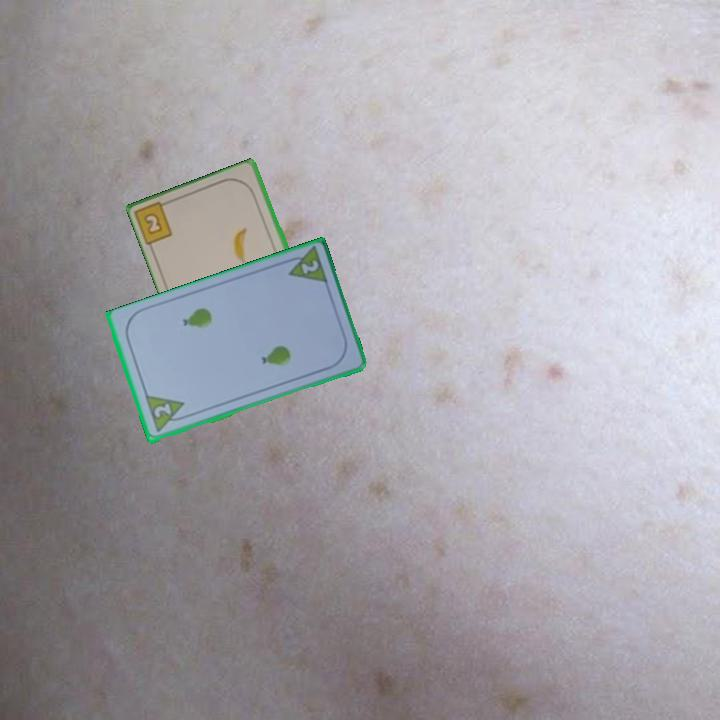2b: (133, 197, 176, 249)
2p: (142, 392, 191, 436), (297, 257, 322, 277)
